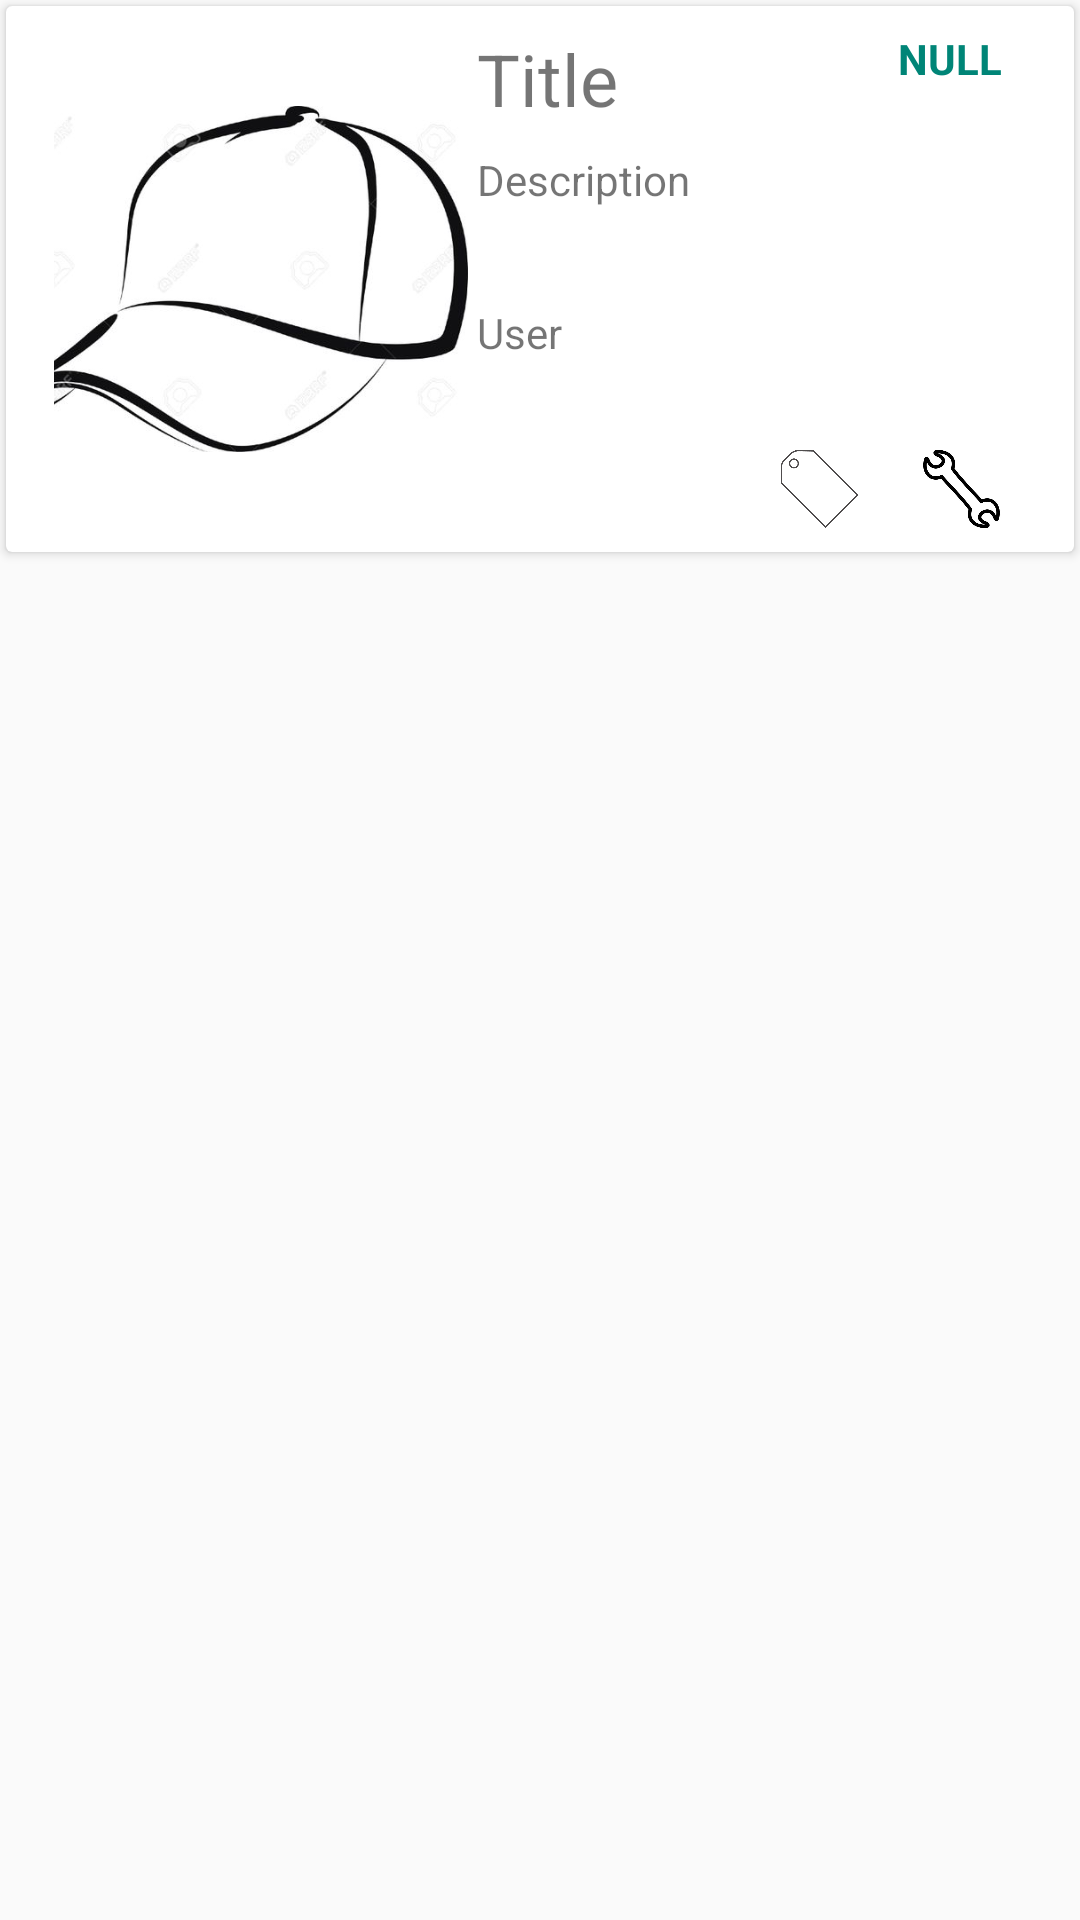

Locate icon controls on the screen. Image size 1080×1920, boxes as (x1, y1, x2, y2).
tag: (781, 450, 858, 528)
